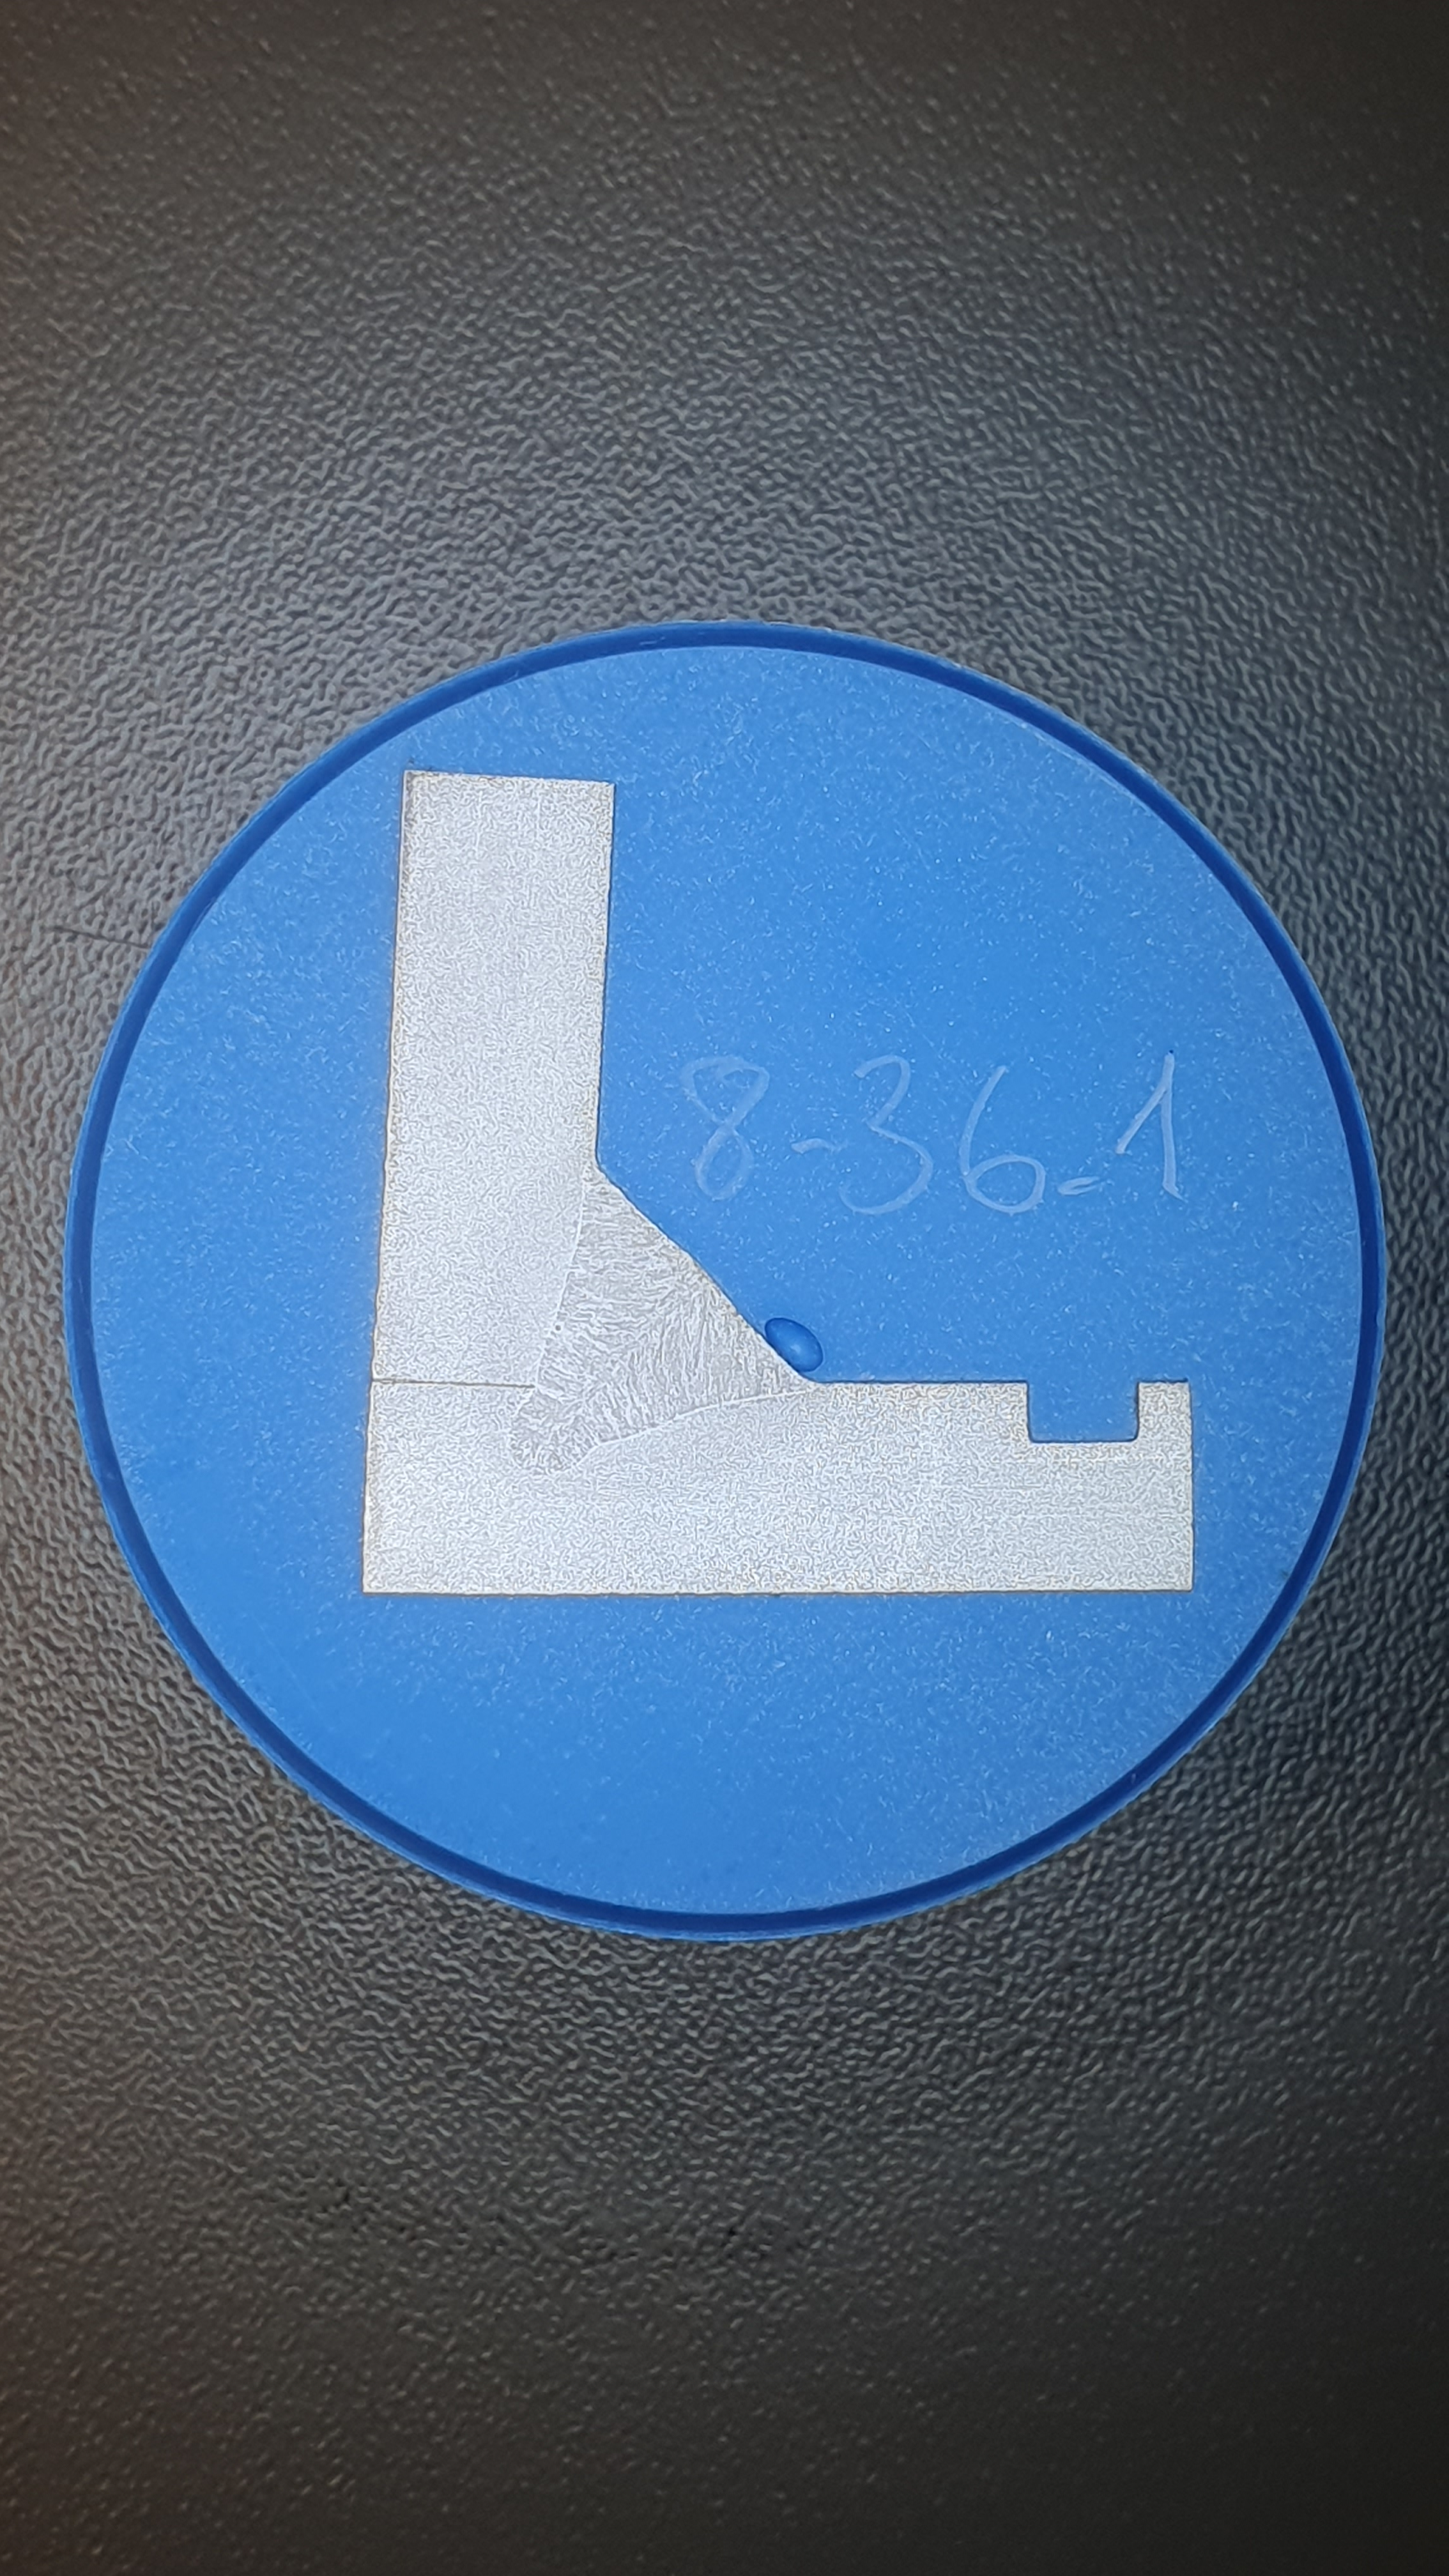Fusion: (507, 1156, 815, 1471)
Hintergrund: (90, 644, 1356, 1915)
Metall: (362, 769, 1194, 1597)
Nebenbereich: (480, 1125, 829, 1506)
